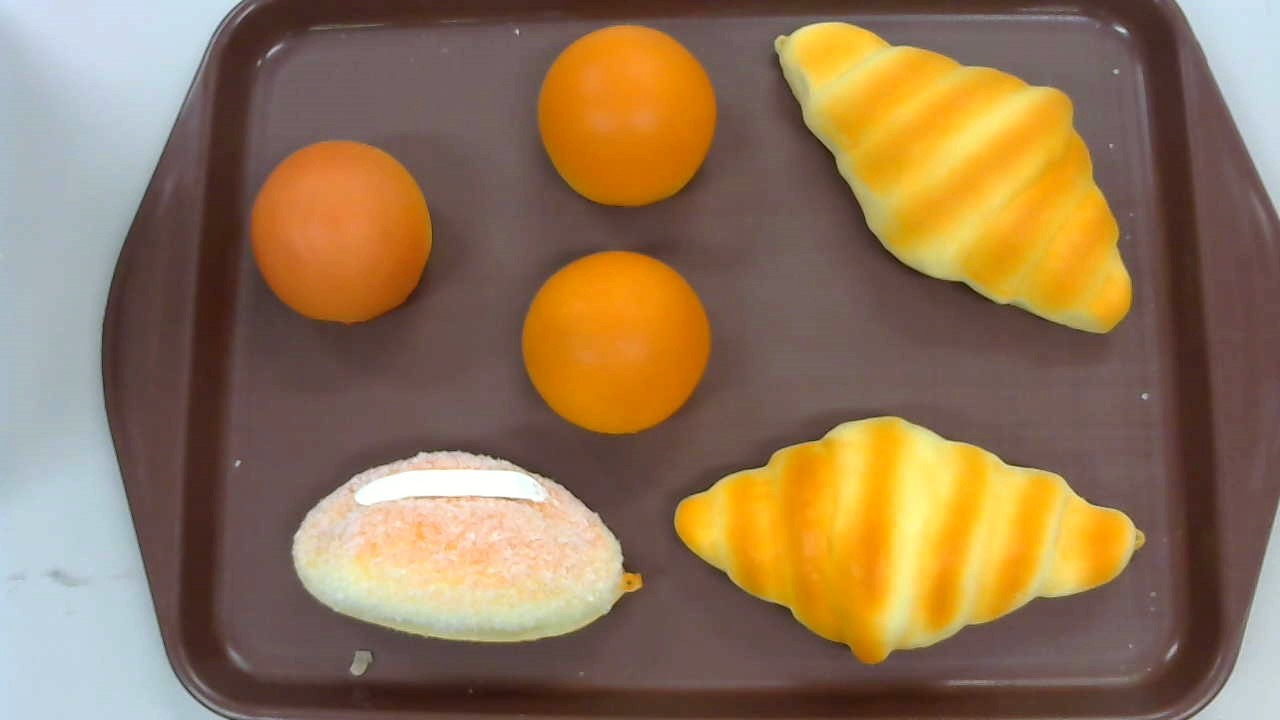bun: (520, 250, 710, 434), (251, 141, 434, 324), (536, 24, 716, 208)
coconut: (291, 449, 644, 646)
croissant: (674, 417, 1145, 667), (775, 22, 1133, 335)
